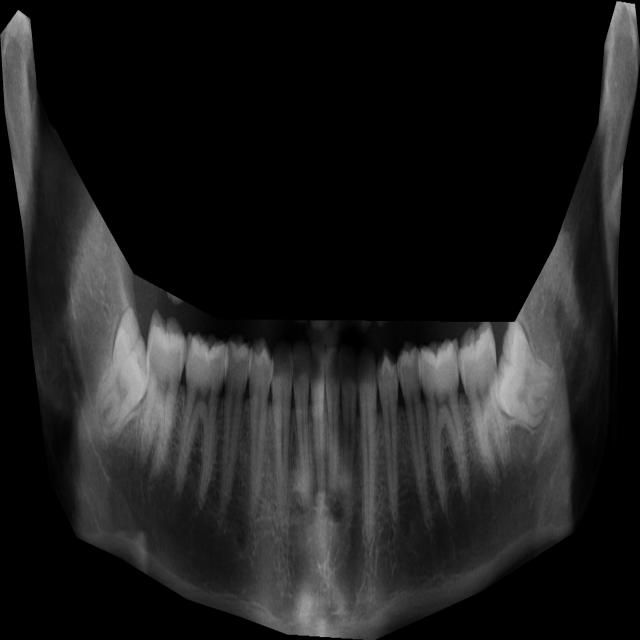mandibula: (0, 1, 640, 640)
